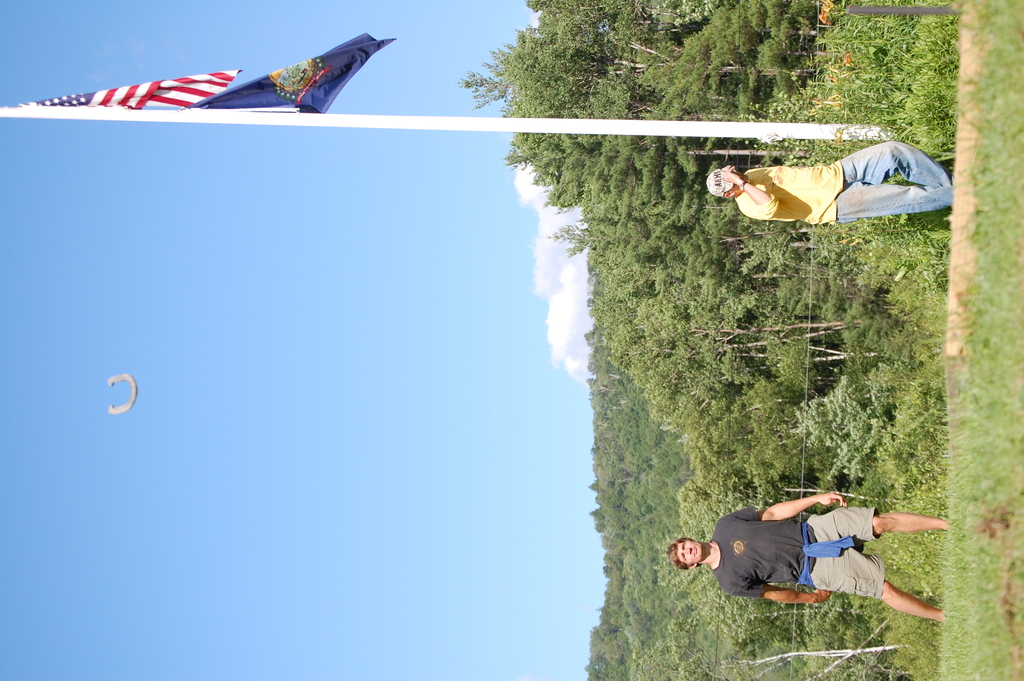Person: (666, 491, 949, 621), (705, 140, 954, 225)
